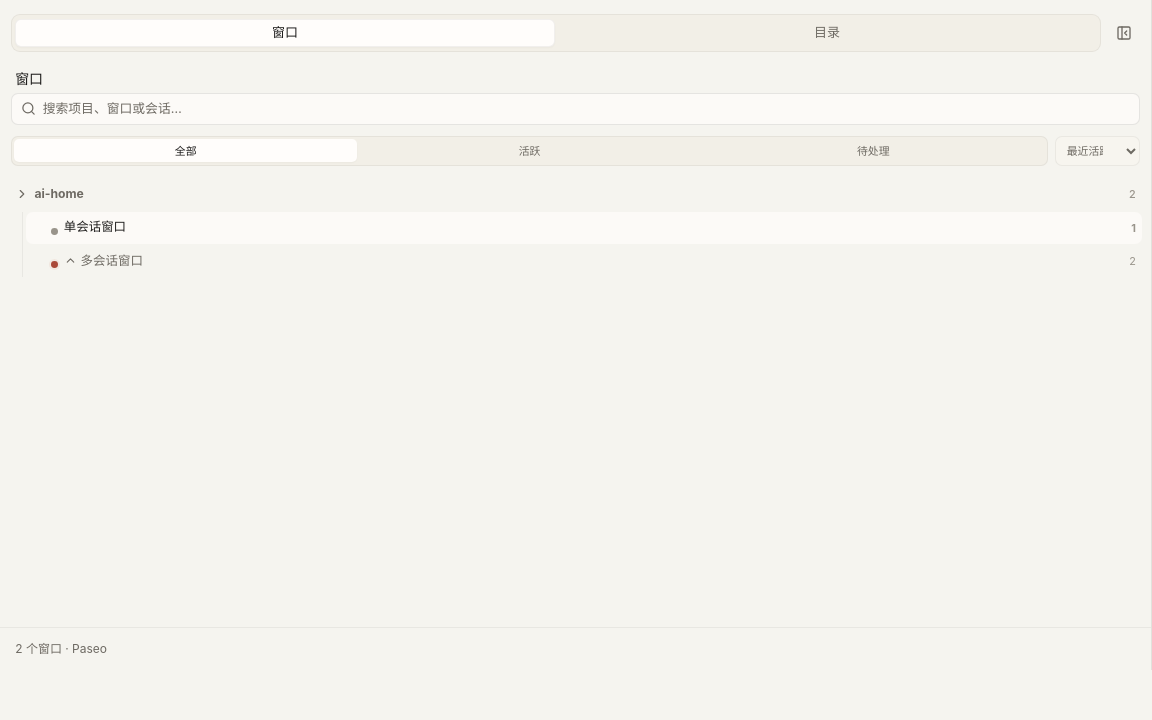
Test: PaseoNavigation › collapses projects and lets search penetrate the collapsed state
Check: the button "单会话窗口 1" is shown, box [64,218,1136,237]
Click the button "ai-home 2" at coordinates (59, 194), box [9,178,1142,210]
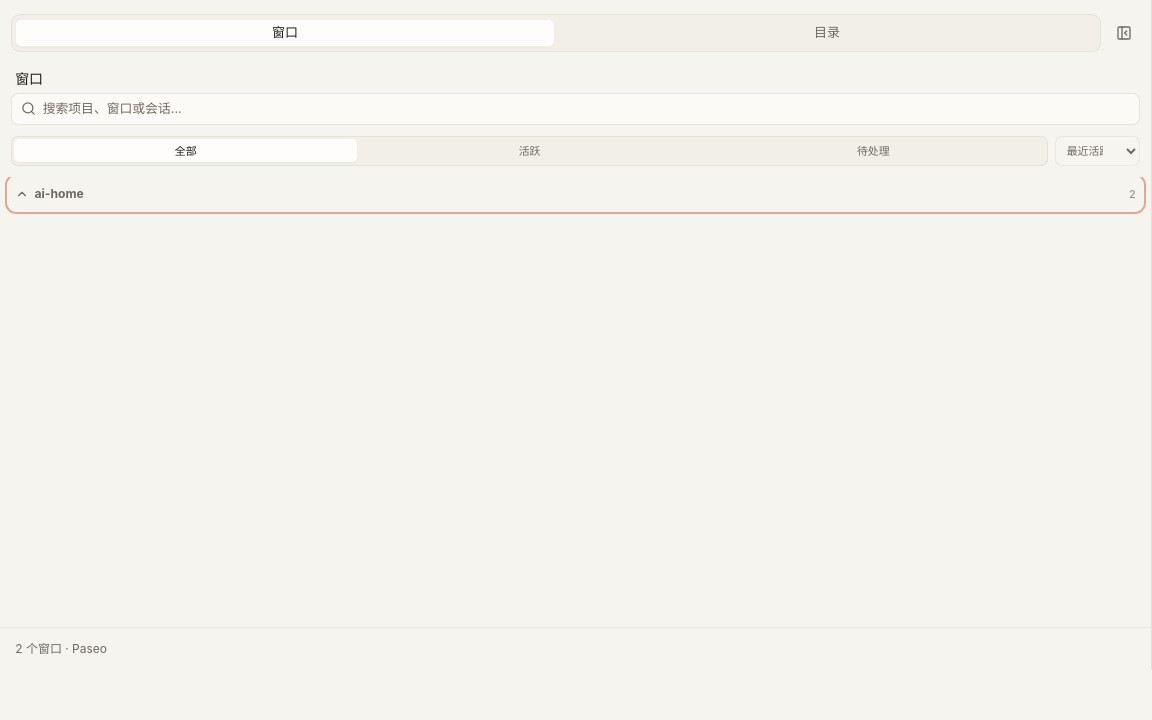
Check: the button "ai-home 2" is collapsed, box [9,178,1142,210]
Check: the button "单会话窗口" is gone
Type "单会话" into the search field named "搜索 Paseo 项目或窗口" at coordinates (586, 109), box [43,94,1130,124]
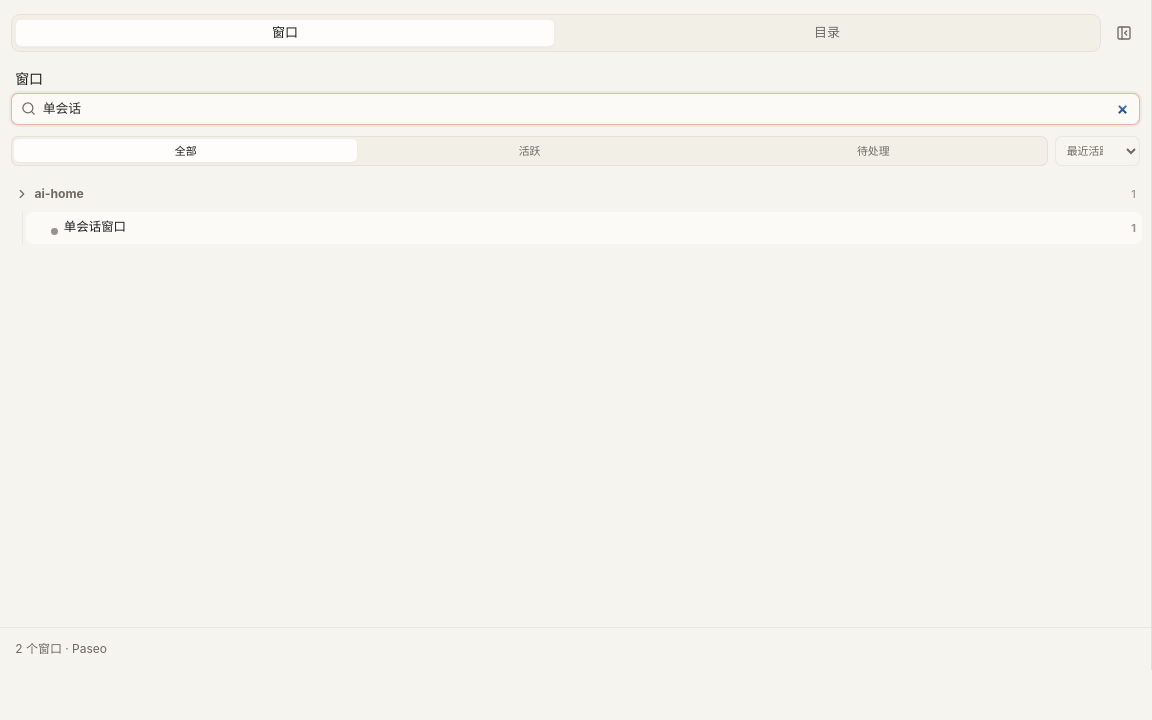
Check: the button "单会话窗口 1" is shown, box [64,218,1136,237]
Clear the search field named "搜索 Paseo 项目或窗口" at coordinates (586, 109), box [43,94,1130,124]
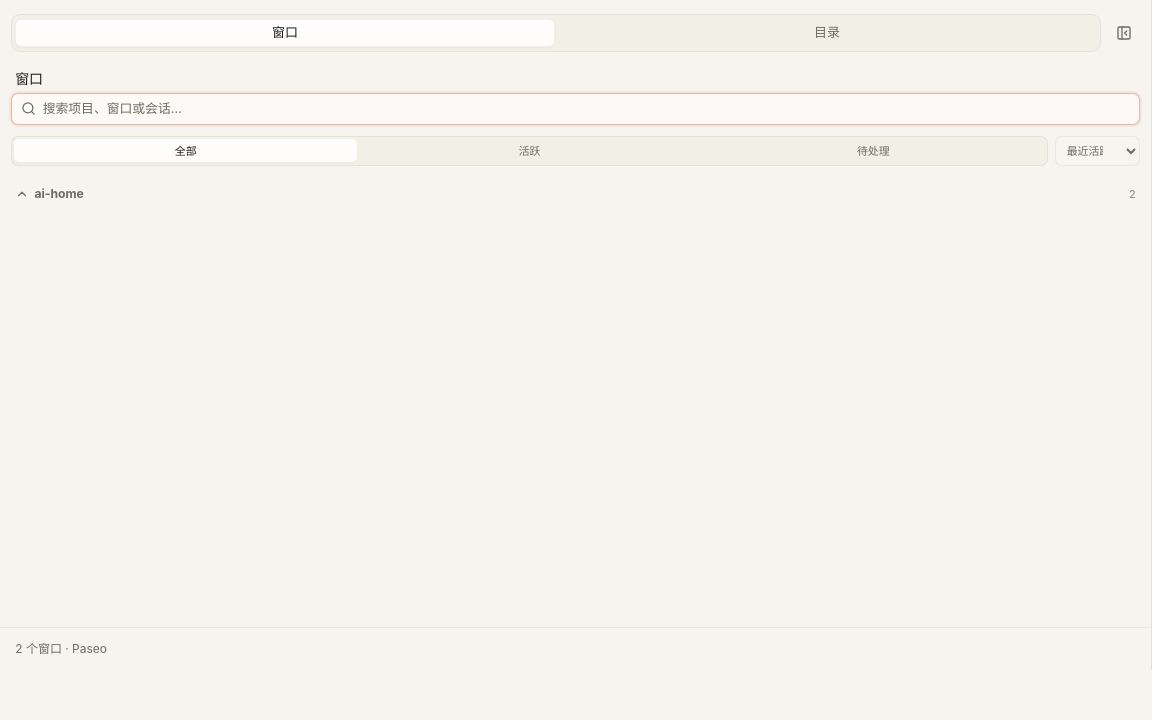
Check: the button "单会话窗口" is gone
Click the button "ai-home 2" at coordinates (59, 194), box [9,178,1142,210]
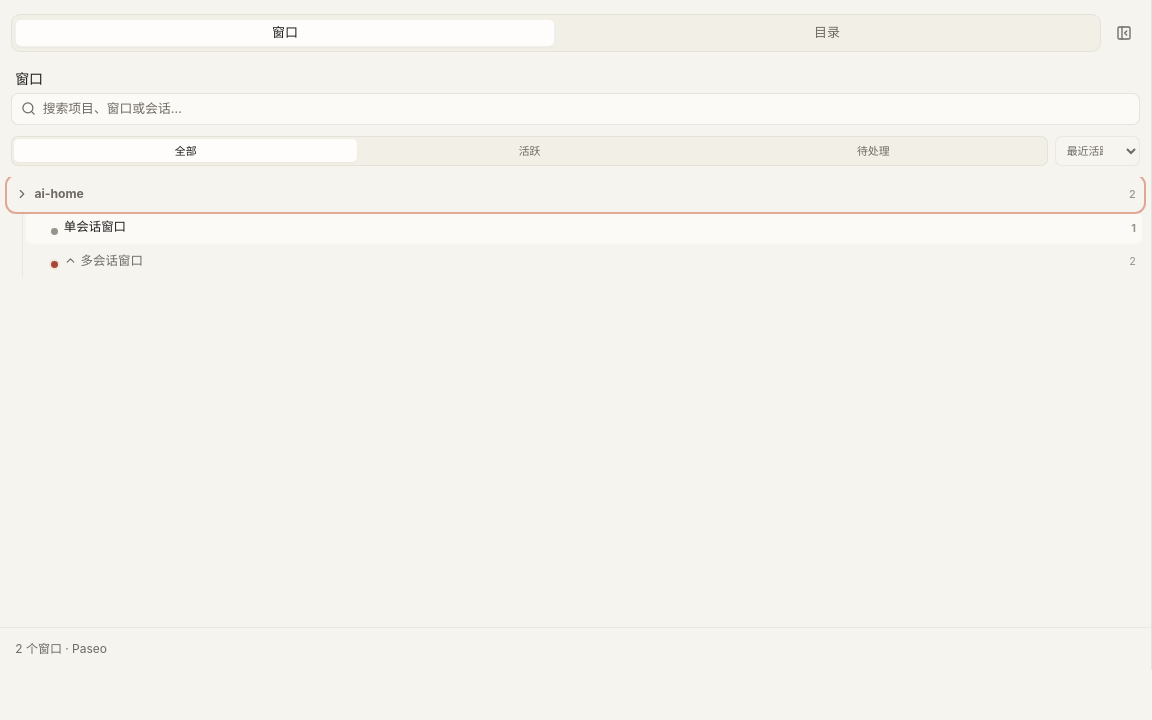
Check: the button "ai-home 2" is expanded, box [9,178,1142,210]
Check: the button "单会话窗口 1" is shown, box [64,218,1136,237]
